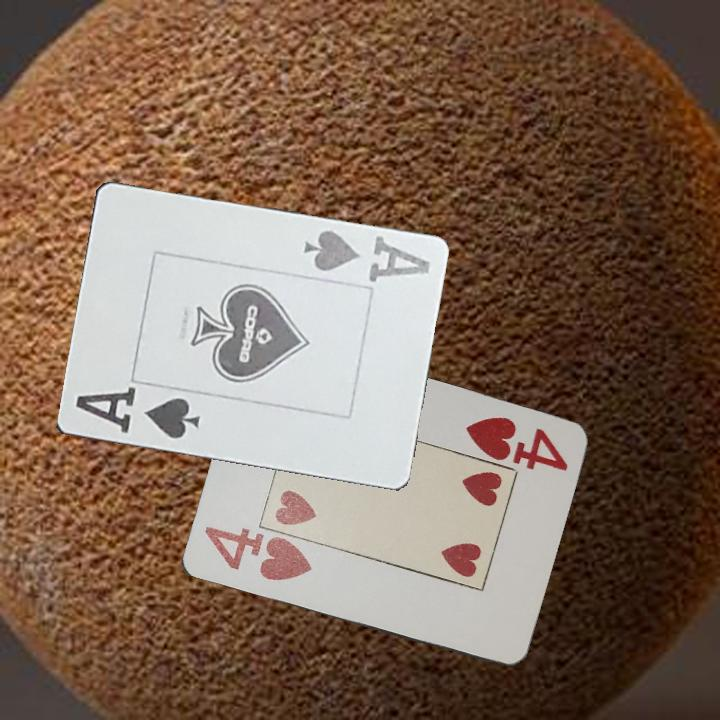4h: (200, 523, 314, 584), (461, 413, 571, 475)
As: (71, 383, 203, 443), (301, 227, 433, 286)
